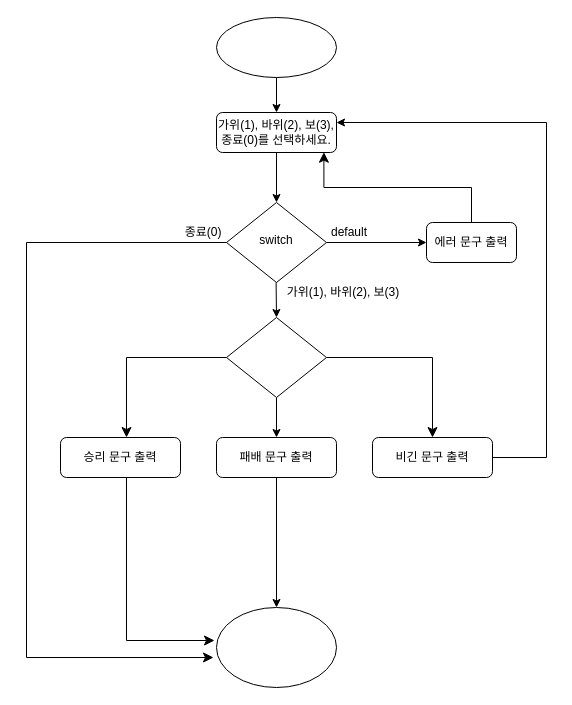
The diagram is 572 pixels wide and 705 high, and some of its shapes have lost their labels. Each missing label, with the centre of its shape:
"게임 시작" belongs at (x=276, y=47).
"승부 판단" belongs at (x=276, y=357).
"종료" belongs at (x=276, y=647).
